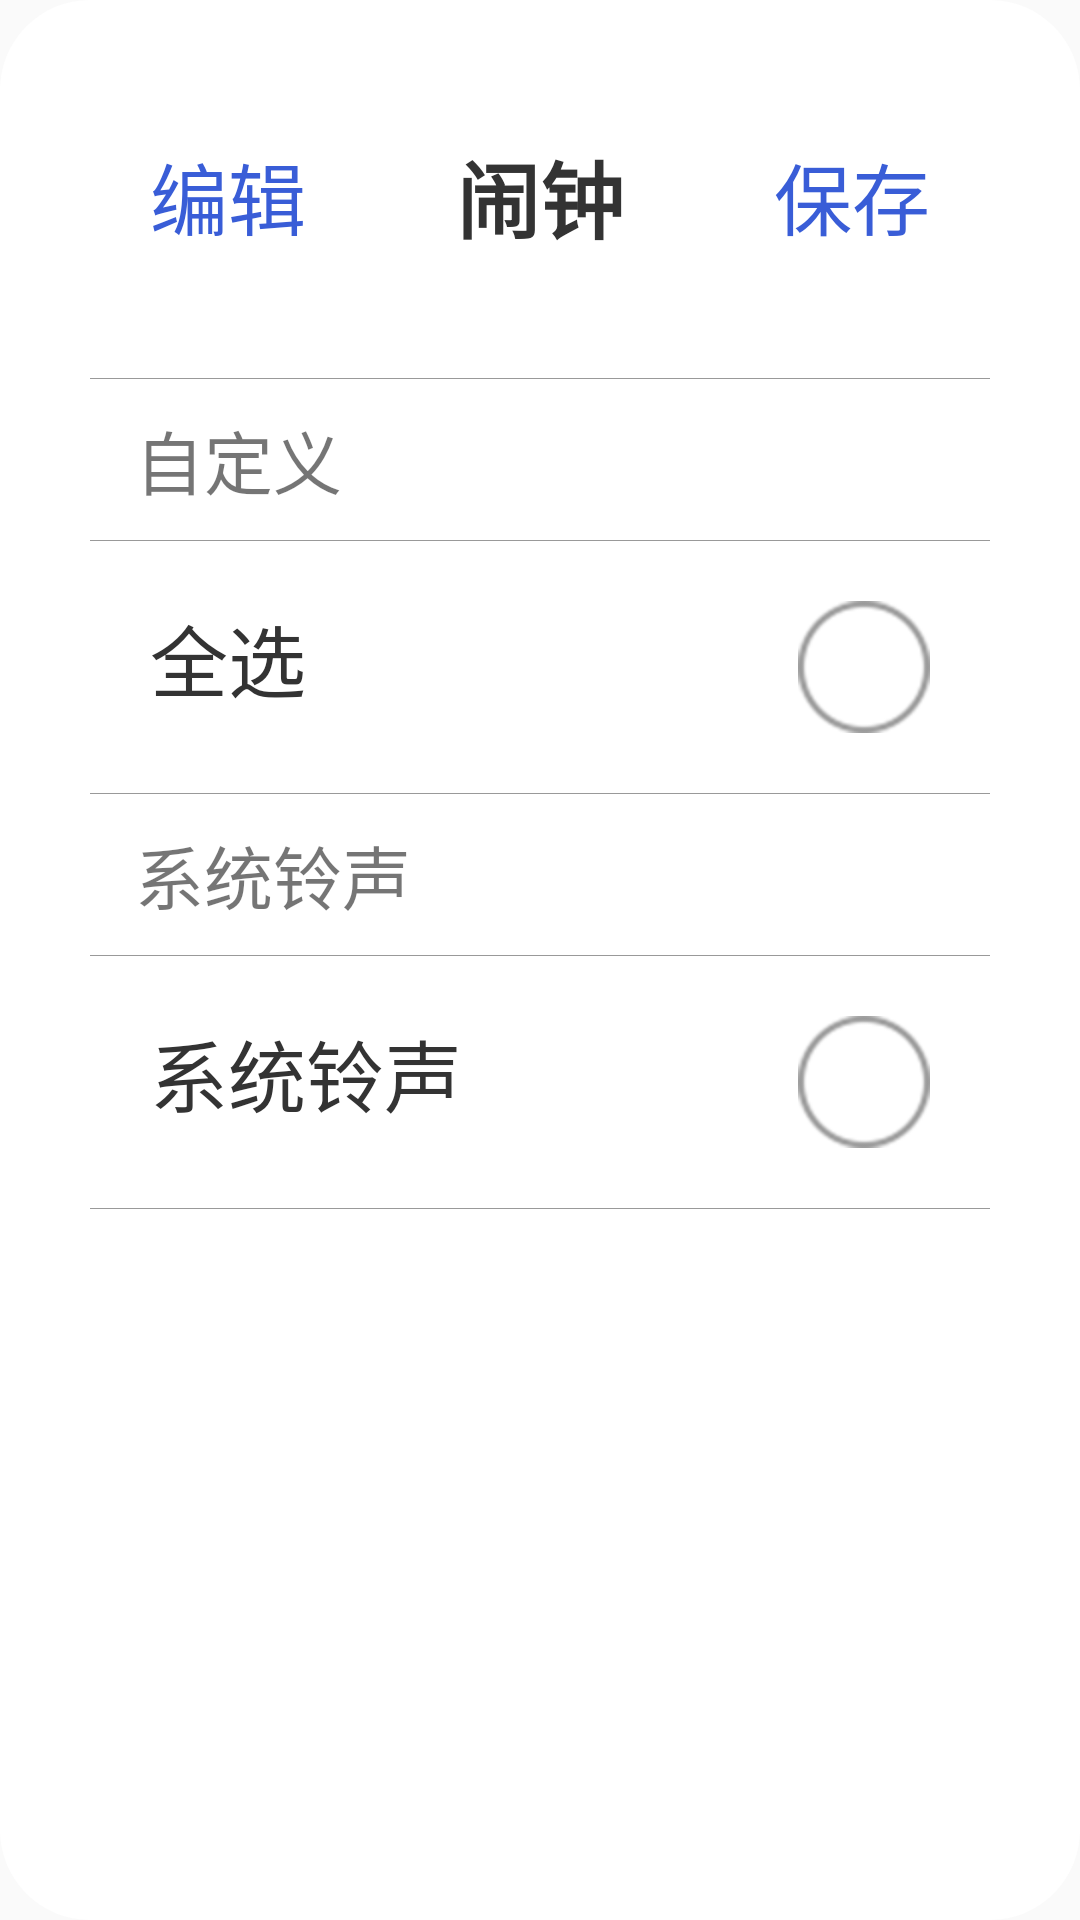

Icons on this 1080px x 1920px Android screen, each with its box as {"x1": x1, "y1": y1, "x2": x2, "y2": y2}:
unselect: {"x1": 798, "y1": 601, "x2": 930, "y2": 733}, {"x1": 798, "y1": 1016, "x2": 930, "y2": 1148}
